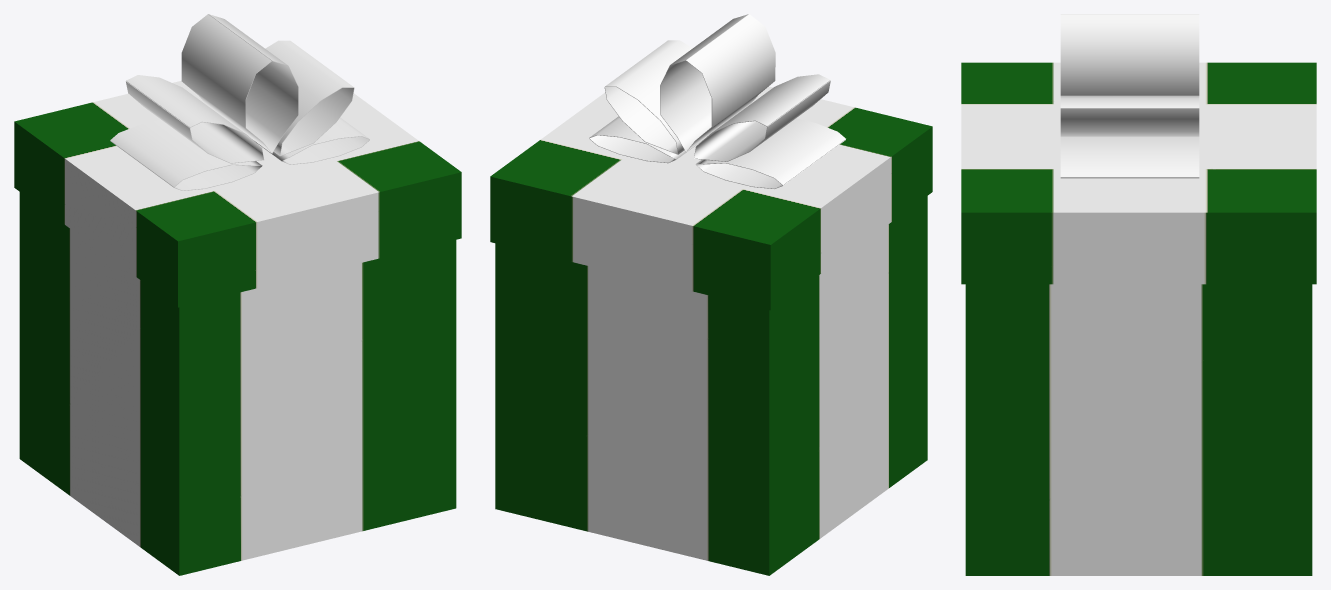
File: present_plain_ver4.fbx
3 renders of one model, left to right at view 1: azimuth 30°, elevation 25°; view 2: azimuth 150°, elevation 25°; view 3: azimuth 270°, elevation 25°, orthographic. The views are drawn at different scales.
Visible parts, largest first — view 1: Box, Top; view 2: Box, Top; view 3: Box, Top.
Part boxes in pixels (box(x1,y1,x2,y2)): Box: box(19, 192, 456, 575); Top: box(14, 14, 461, 307); Box: box(495, 196, 927, 575); Top: box(490, 14, 932, 310); Box: box(965, 284, 1312, 575); Top: box(961, 14, 1316, 284).
Size of the model in its own units: 10.24 by 15.52 by 10.24.
